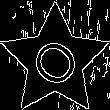O_SE: (23, 28, 87, 94)
